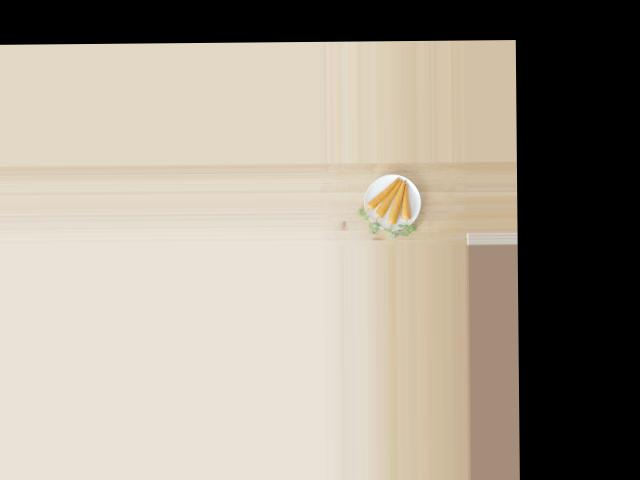carrot: (364, 175, 399, 212)
